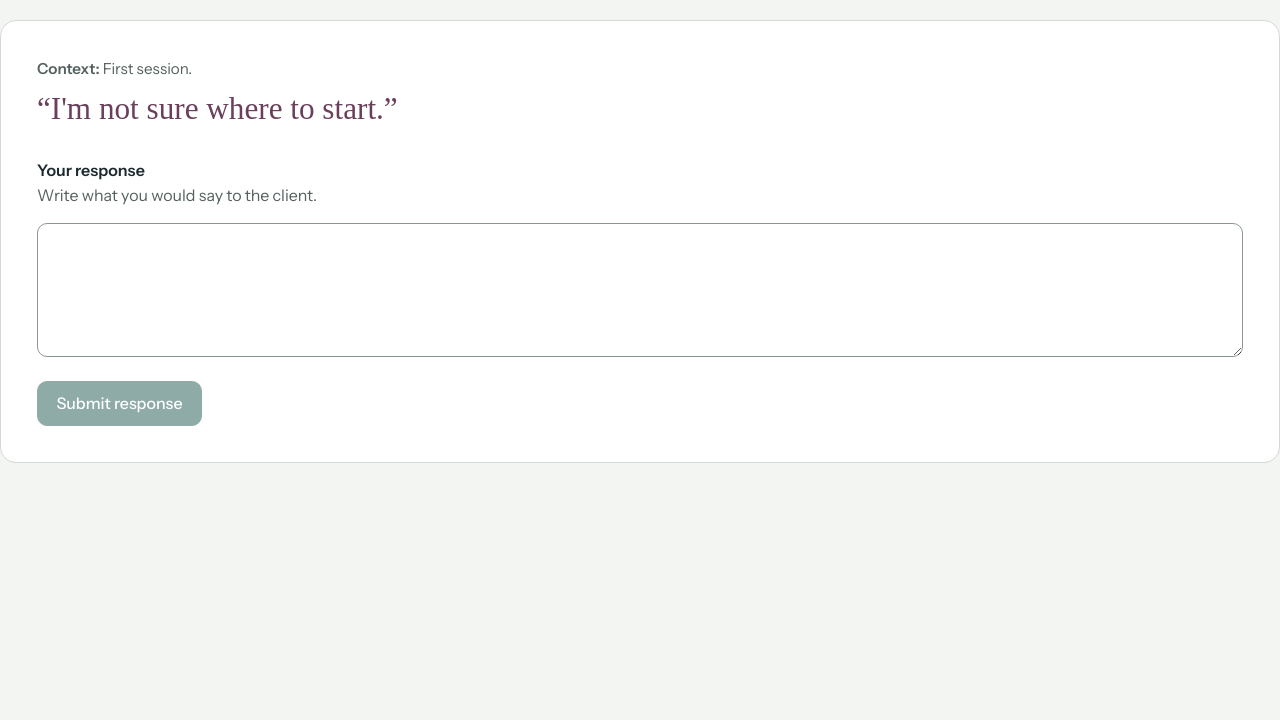
Test case: DrillCard › getModel is not called before an attempt is saved
Type "A response that is long enough." into the text box labelled "Your response".
click(640, 290); type("A response that is long enough.")  # box [37,223,1243,357]
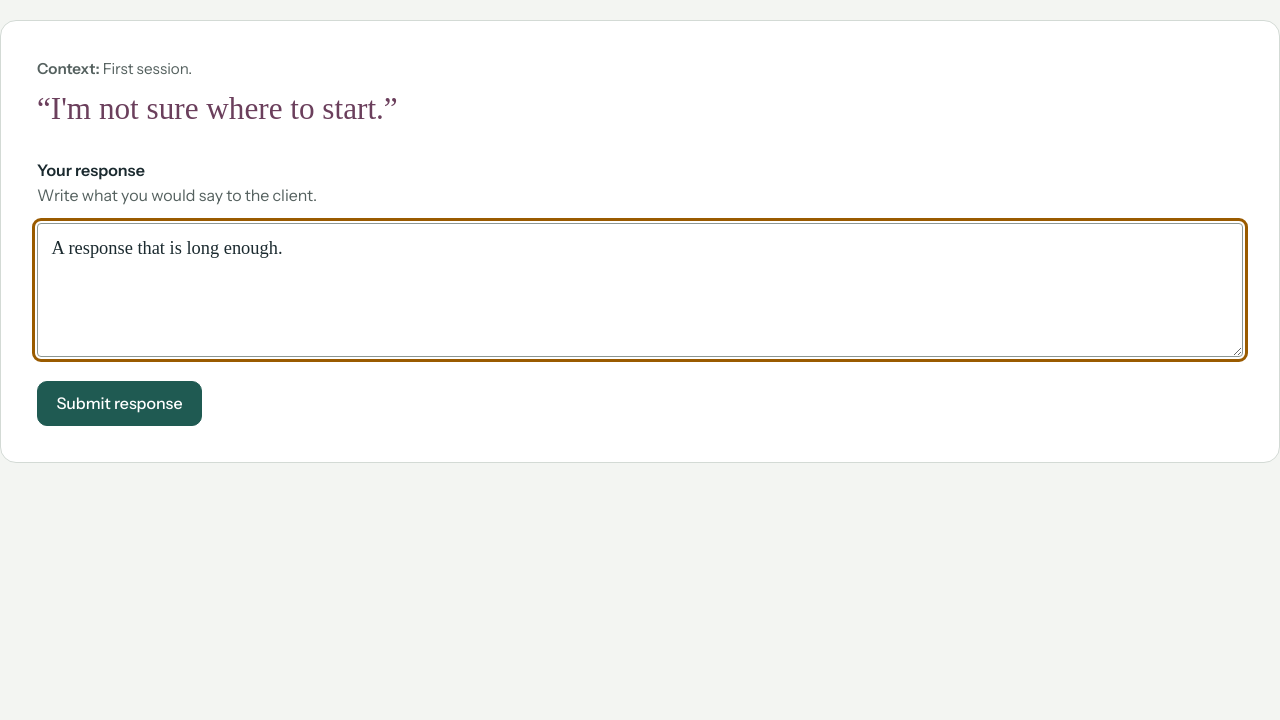
Click the button "Submit response".
click(120, 404)  # box [37,381,202,426]
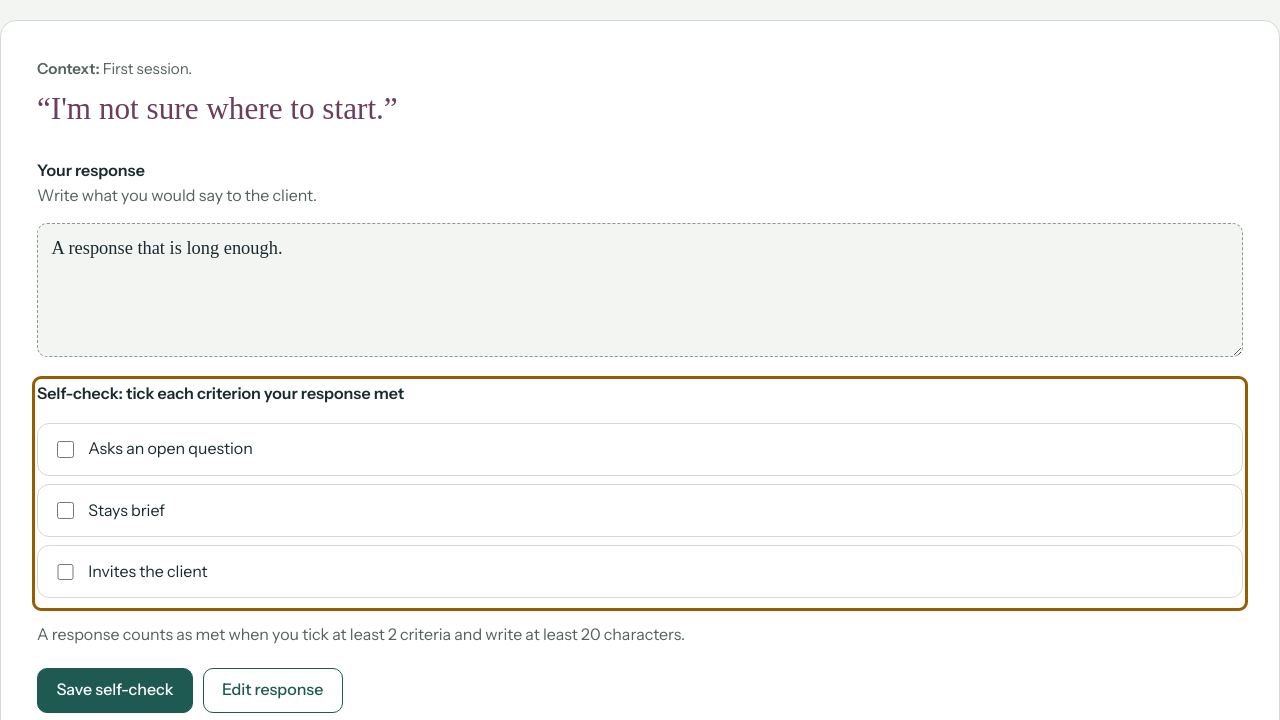
Click the checkbox labelled "Asks an open question".
click(66, 450)  # box [57,441,74,458]
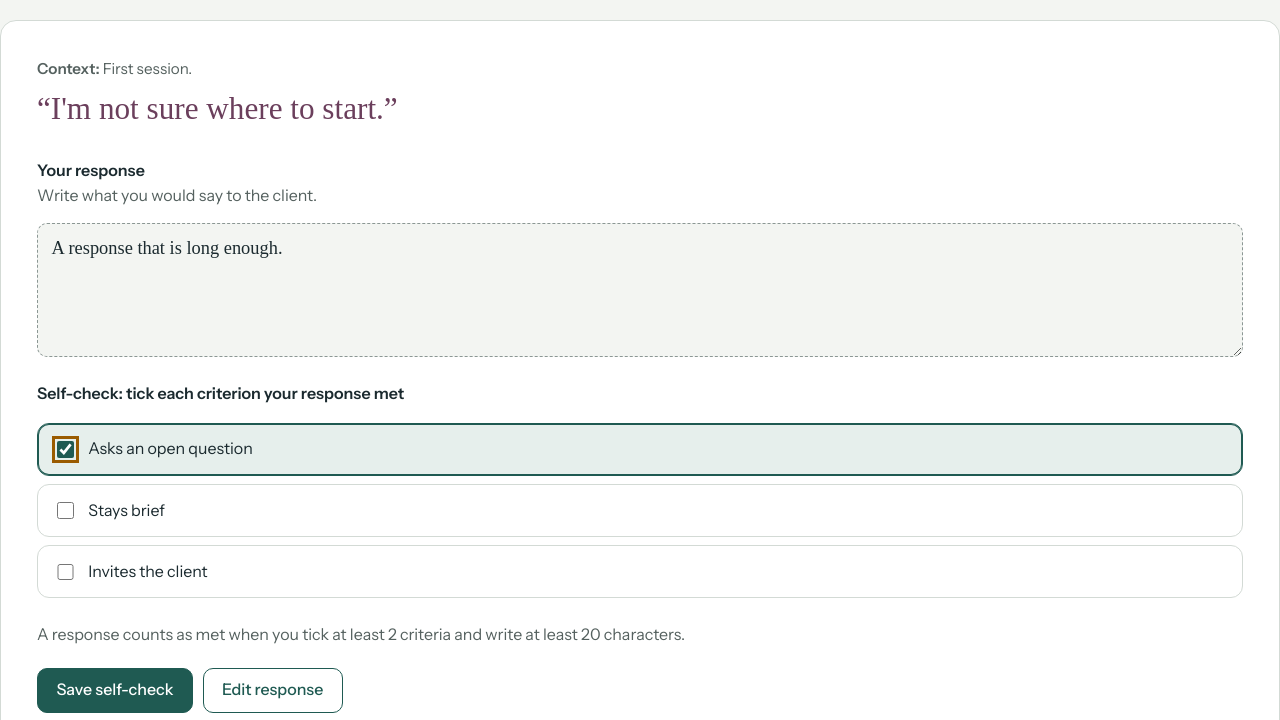
Click the button "Save self-check".
click(115, 690)  # box [37,668,193,713]
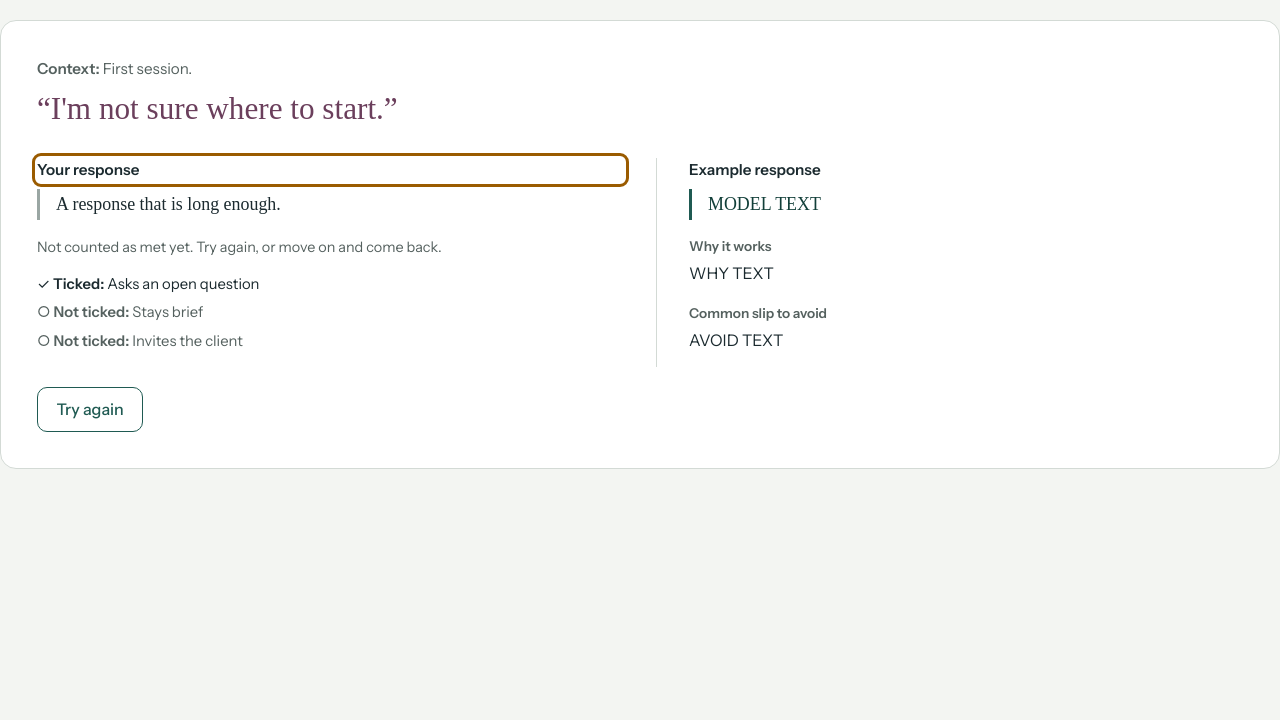
Check: the text "MODEL TEXT" is shown, box [689,189,1243,220]
Check: the text "WHY TEXT" is shown, box [689,263,774,283]
Check: the text "AVOID TEXT" is shown, box [689,330,784,350]
